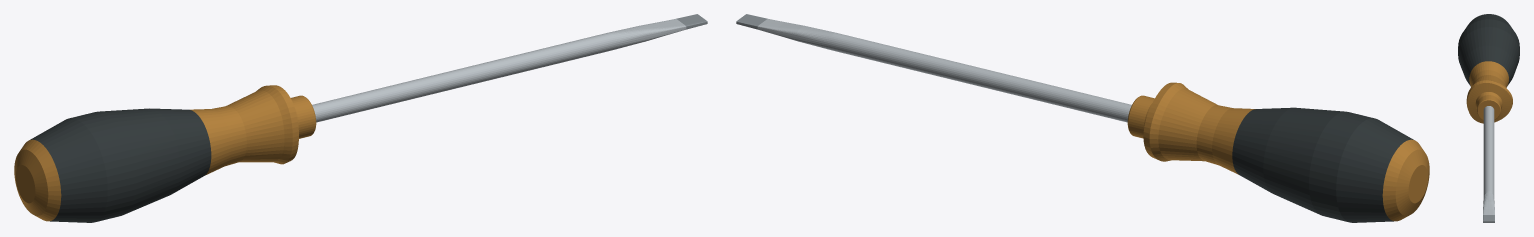
3 views of the same model, side by side, from view 1: azimuth 30°, elevation 25°; view 2: azimuth 150°, elevation 25°; view 3: azimuth 270°, elevation 25° (orthographic). The views are drawn at different scales.
Parts seen in each view (by area): view 1: Substantial_polymer_grip_with_true_blind_bore, Continuous_round_steel_shaft_and_finite_slotted_tip; view 2: Substantial_polymer_grip_with_true_blind_bore, Continuous_round_steel_shaft_and_finite_slotted_tip; view 3: Substantial_polymer_grip_with_true_blind_bore, Continuous_round_steel_shaft_and_finite_slotted_tip.
Boxes of the visible parts, x1,y1,x2,y2 form: Substantial_polymer_grip_with_true_blind_bore: [14, 85, 316, 222]; Continuous_round_steel_shaft_and_finite_slotted_tip: [312, 14, 707, 122]; Substantial_polymer_grip_with_true_blind_bore: [1127, 82, 1429, 222]; Continuous_round_steel_shaft_and_finite_slotted_tip: [736, 14, 1131, 122]; Substantial_polymer_grip_with_true_blind_bore: [1458, 14, 1519, 123]; Continuous_round_steel_shaft_and_finite_slotted_tip: [1483, 106, 1494, 222].
Size of the model in its own units: 0.299 by 0.041 by 0.041.
